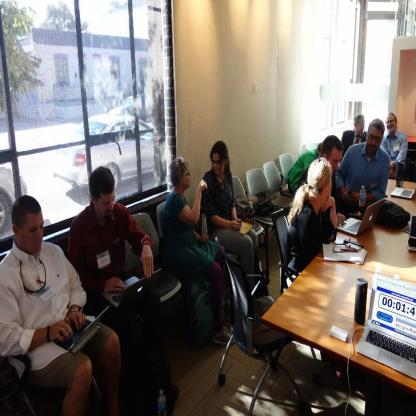board: (357, 276, 416, 381), (53, 305, 109, 353), (102, 270, 161, 309), (338, 198, 385, 236), (391, 189, 416, 197)
